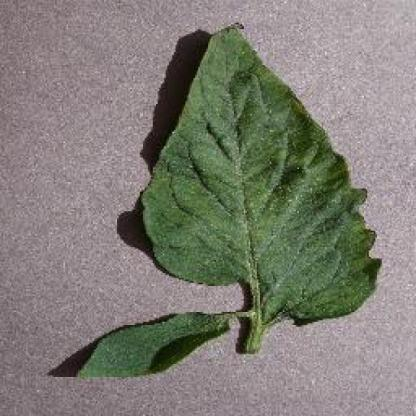Strawberry_Blossom_Blight: (231, 92, 292, 156), (214, 208, 289, 252)
